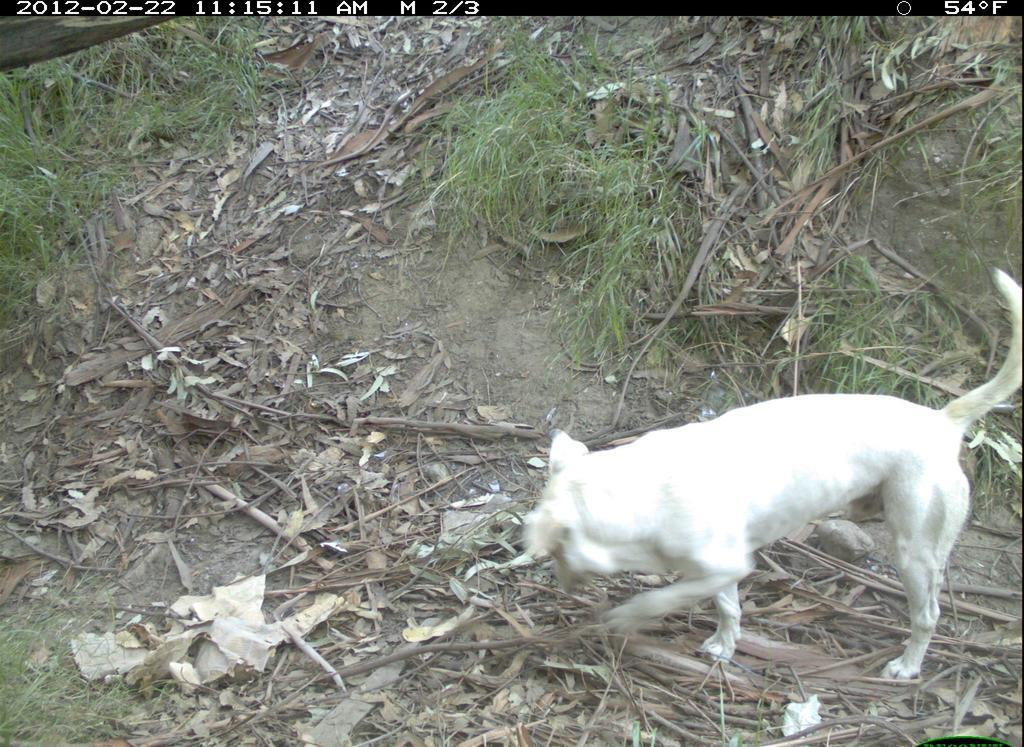dog: (520, 249, 1021, 694)
